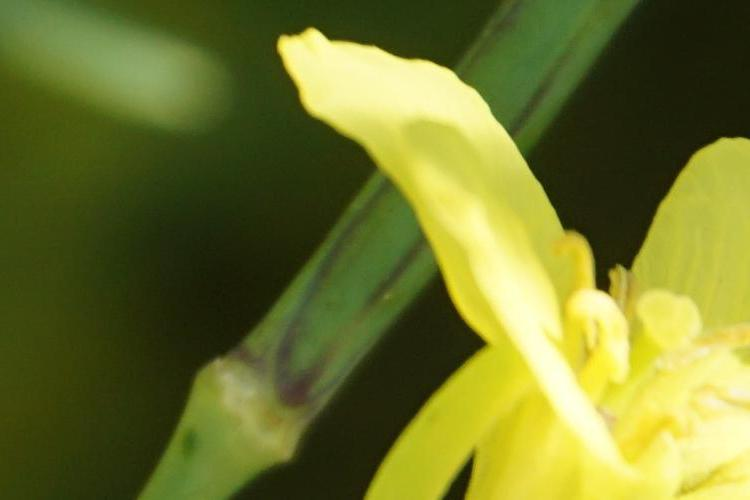yellow: (327, 71, 738, 498)
